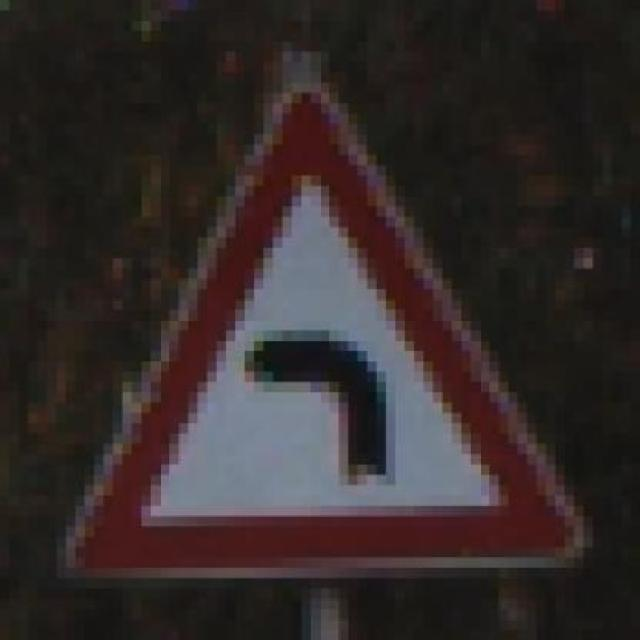Dangerous Left Curve Ahead: (65, 72, 593, 578)
